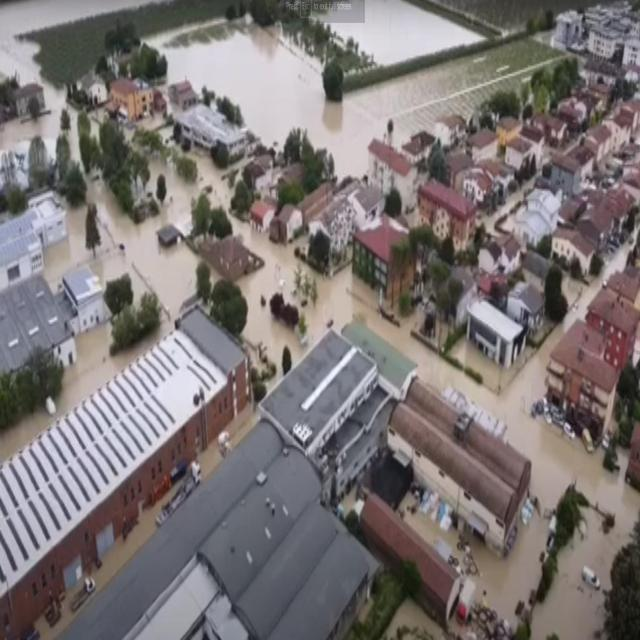flood: (301, 264, 640, 639), (164, 0, 554, 175), (43, 153, 230, 319), (0, 0, 142, 157), (289, 0, 484, 62), (231, 216, 301, 373), (485, 177, 535, 230), (603, 241, 633, 279), (69, 105, 79, 159)
house: (0, 293, 252, 637), (387, 368, 535, 560), (261, 324, 381, 492), (360, 488, 462, 626), (544, 318, 620, 432), (0, 190, 67, 286), (351, 221, 418, 306), (173, 101, 250, 168), (467, 297, 528, 371), (420, 177, 478, 254), (307, 195, 356, 274), (592, 281, 640, 358), (368, 137, 414, 211), (63, 262, 110, 331), (508, 274, 549, 337), (553, 224, 594, 278), (509, 205, 547, 248), (13, 81, 46, 120), (587, 18, 618, 58), (530, 185, 560, 225), (109, 79, 137, 121), (248, 193, 274, 238), (552, 152, 582, 190), (278, 203, 304, 243), (556, 10, 583, 44), (500, 112, 523, 148), (83, 69, 106, 105), (473, 127, 498, 160), (588, 123, 612, 157), (171, 79, 199, 107), (622, 34, 640, 66), (137, 85, 154, 114)
